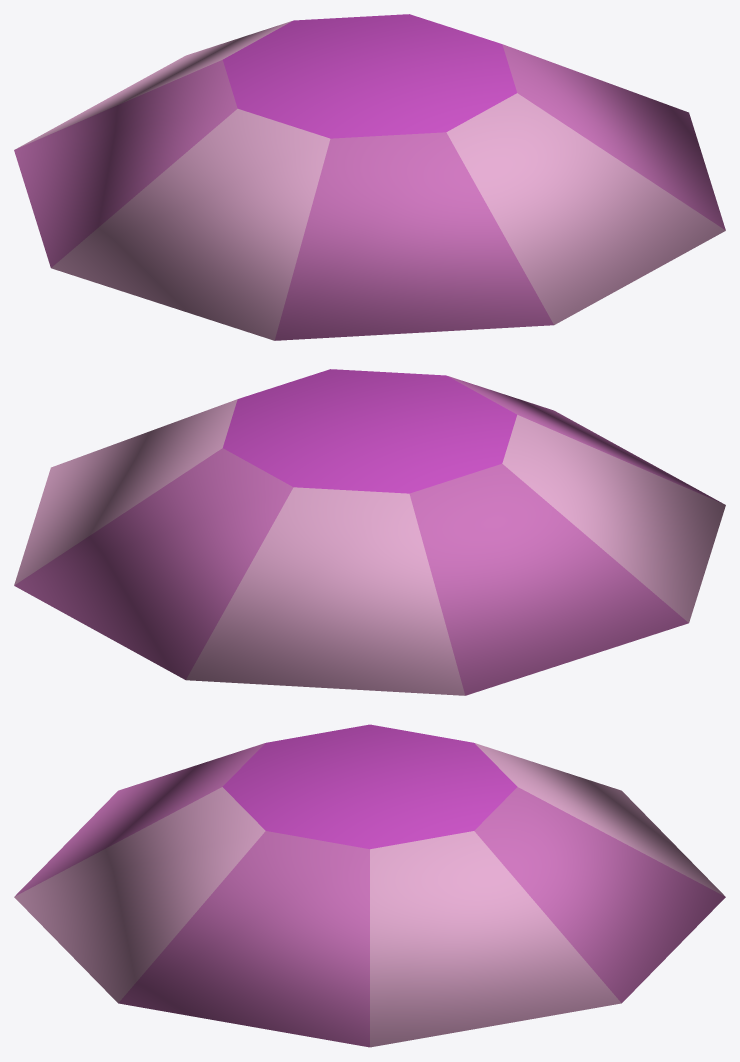
Rendered from thargoid.fbx.
3 views of the same model, one above another, from view 1: azimuth 30°, elevation 25°; view 2: azimuth 150°, elevation 25°; view 3: azimuth 270°, elevation 25° (orthographic). The views are drawn at different scales.
Visible parts, largest first — view 1: thargoid; view 2: thargoid; view 3: thargoid.
Part boxes in pixels (left/top/right/bottom): thargoid: left=14, top=14, right=725, bottom=340; thargoid: left=14, top=369, right=725, bottom=695; thargoid: left=14, top=724, right=725, bottom=1047.
Bounding box in the file's own units: 4.1 × 0.7047 × 4.1.
